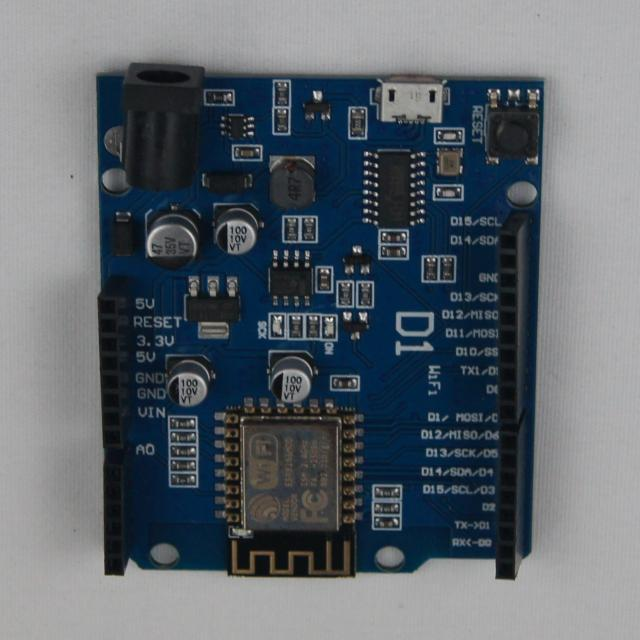Arduino Uno WiFi Shield: (97, 64, 544, 579)
